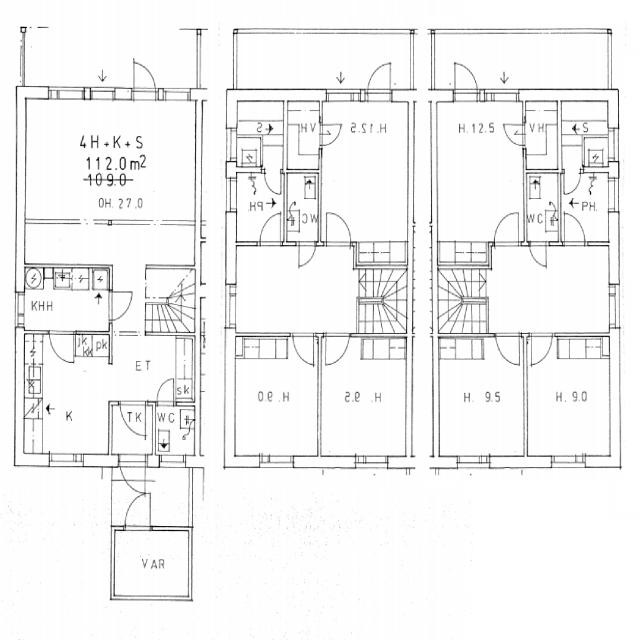door: (493, 327, 560, 368), (363, 59, 396, 103), (450, 60, 480, 106), (122, 490, 154, 530), (492, 207, 522, 249), (118, 398, 149, 438), (322, 328, 353, 368), (525, 329, 556, 369), (130, 57, 158, 101), (323, 207, 353, 248), (117, 455, 147, 495), (105, 286, 135, 324), (493, 329, 522, 367), (290, 329, 318, 368), (48, 329, 76, 365), (562, 210, 587, 247), (259, 210, 283, 246), (500, 120, 528, 150), (318, 120, 344, 148), (560, 168, 584, 198), (295, 240, 318, 270), (528, 239, 550, 270), (262, 168, 285, 197), (156, 376, 177, 406)
window: (544, 449, 591, 473), (254, 450, 298, 472), (352, 451, 393, 474), (452, 452, 494, 474), (222, 281, 240, 332), (605, 278, 622, 331), (46, 84, 88, 102), (158, 84, 193, 104), (45, 452, 83, 469), (13, 290, 27, 330), (325, 90, 360, 103), (89, 87, 117, 102), (126, 592, 160, 604), (159, 458, 188, 471), (151, 594, 180, 604)
zone: (24, 98, 200, 225), (319, 98, 412, 250), (433, 97, 523, 252), (436, 335, 526, 460), (527, 332, 614, 461), (318, 336, 409, 458), (232, 334, 319, 459), (20, 340, 109, 462), (234, 243, 352, 332), (21, 265, 110, 333), (110, 530, 192, 599), (241, 110, 329, 172), (232, 169, 284, 245), (563, 173, 615, 244), (152, 400, 199, 464), (523, 170, 562, 246), (285, 100, 321, 173), (525, 102, 561, 173), (285, 170, 319, 245), (230, 92, 286, 136), (560, 96, 615, 136), (230, 133, 262, 170)
